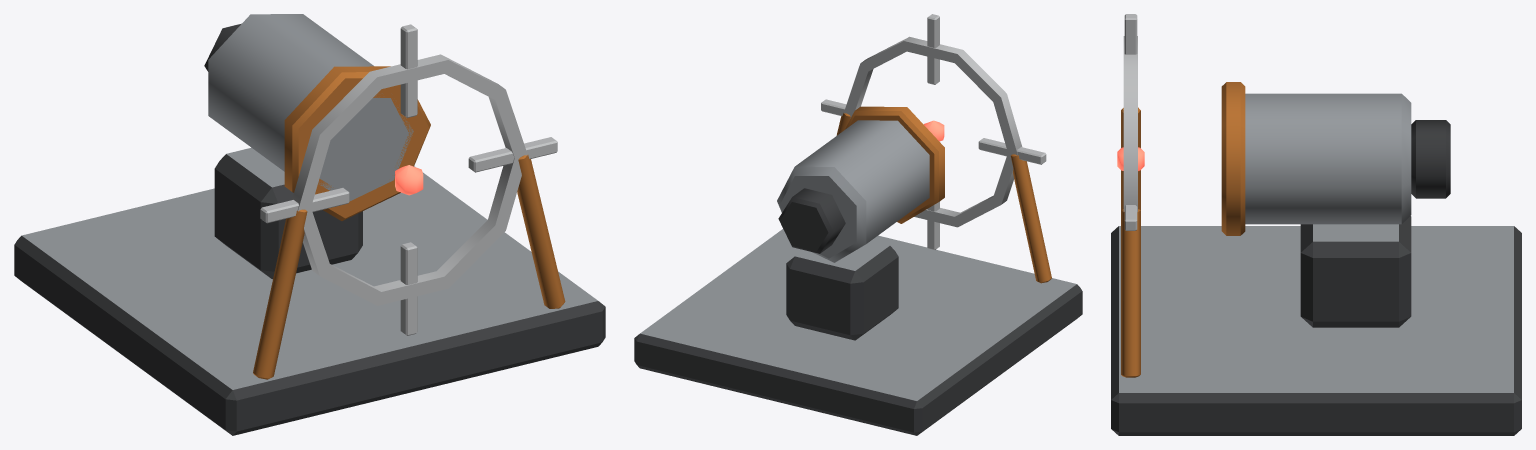
File: R4X_WeakPointScanner_LOD1.fbx
3 views of the same model, side by side, from view 1: azimuth 30°, elevation 25°; view 2: azimuth 150°, elevation 25°; view 3: azimuth 270°, elevation 25° (orthographic). The views are drawn at different scales.
Parts seen in each view (by area): view 1: R4X_WeakPointScanner_LOD1; view 2: R4X_WeakPointScanner_LOD1; view 3: R4X_WeakPointScanner_LOD1.
Part boxes in pixels (x1=…): R4X_WeakPointScanner_LOD1: x1=14, y1=14, x2=605, y2=435; R4X_WeakPointScanner_LOD1: x1=634, y1=14, x2=1082, y2=435; R4X_WeakPointScanner_LOD1: x1=1111, y1=14, x2=1521, y2=435.
Size of the model in its own units: 0.52 by 0.47 by 0.52.
